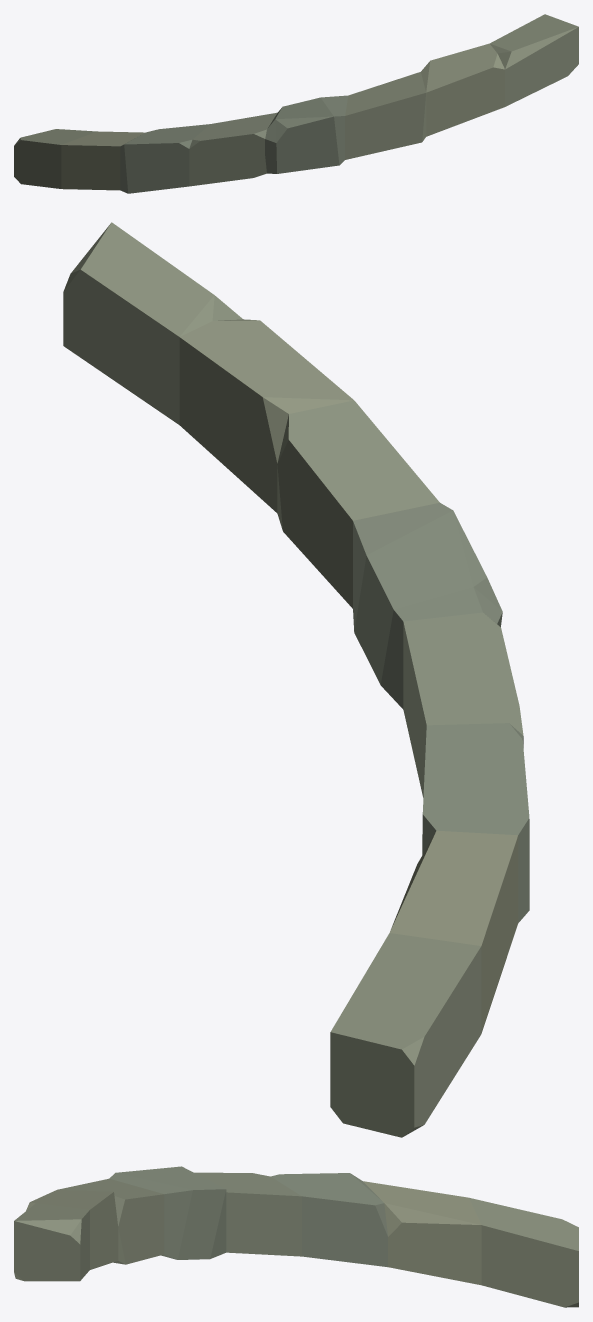
The model's file is ramp_spiral_wide_railing_outside_short_counter.fbx.
The picture shows the model from 3 angles, top to bottom: view 1: azimuth 30°, elevation 25°; view 2: azimuth 150°, elevation 25°; view 3: azimuth 270°, elevation 25°; orthographic projection. The views are drawn at different scales.
Parts seen in each view (by area): view 1: ramp_spiral_wide_railing_outside_short_counter; view 2: ramp_spiral_wide_railing_outside_short_counter; view 3: ramp_spiral_wide_railing_outside_short_counter.
Part boxes in pixels (bbox=[...]): ramp_spiral_wide_railing_outside_short_counter: bbox=[14, 14, 578, 193]; ramp_spiral_wide_railing_outside_short_counter: bbox=[63, 222, 529, 1137]; ramp_spiral_wide_railing_outside_short_counter: bbox=[14, 1166, 578, 1307].
Bounding box in the file's own units: 425 × 250 × 425.
